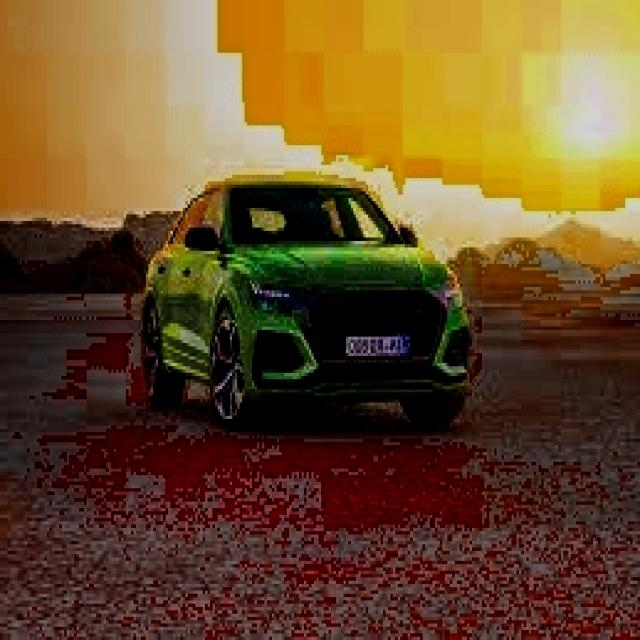green: (140, 180, 470, 430)
